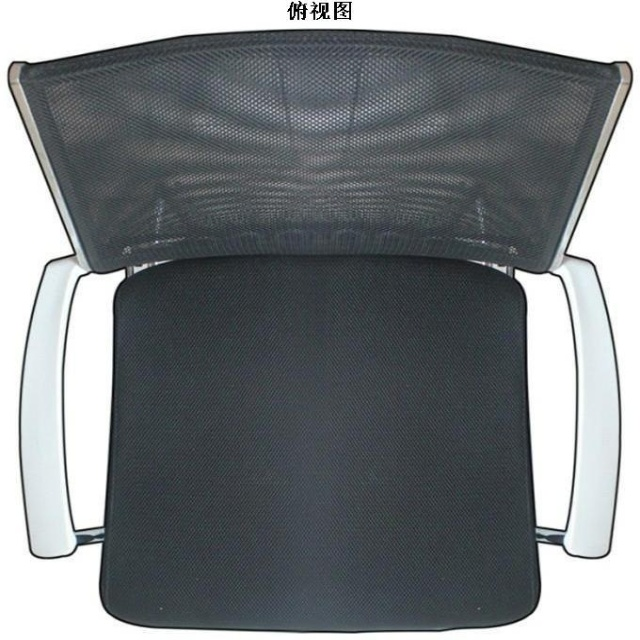obstacle: (8, 29, 631, 630)
